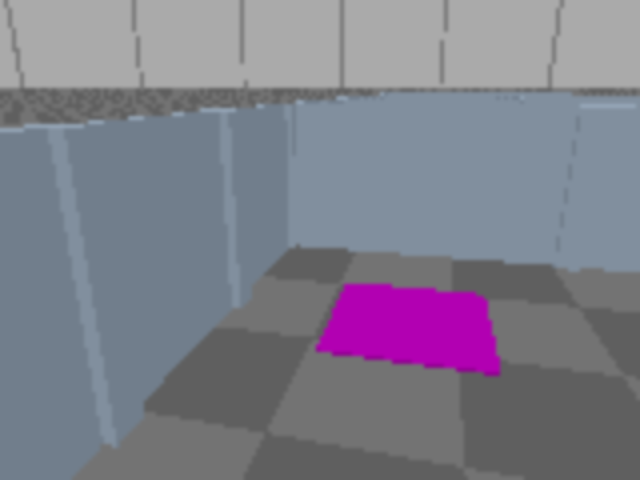goal_zone: (315, 282, 502, 376)
